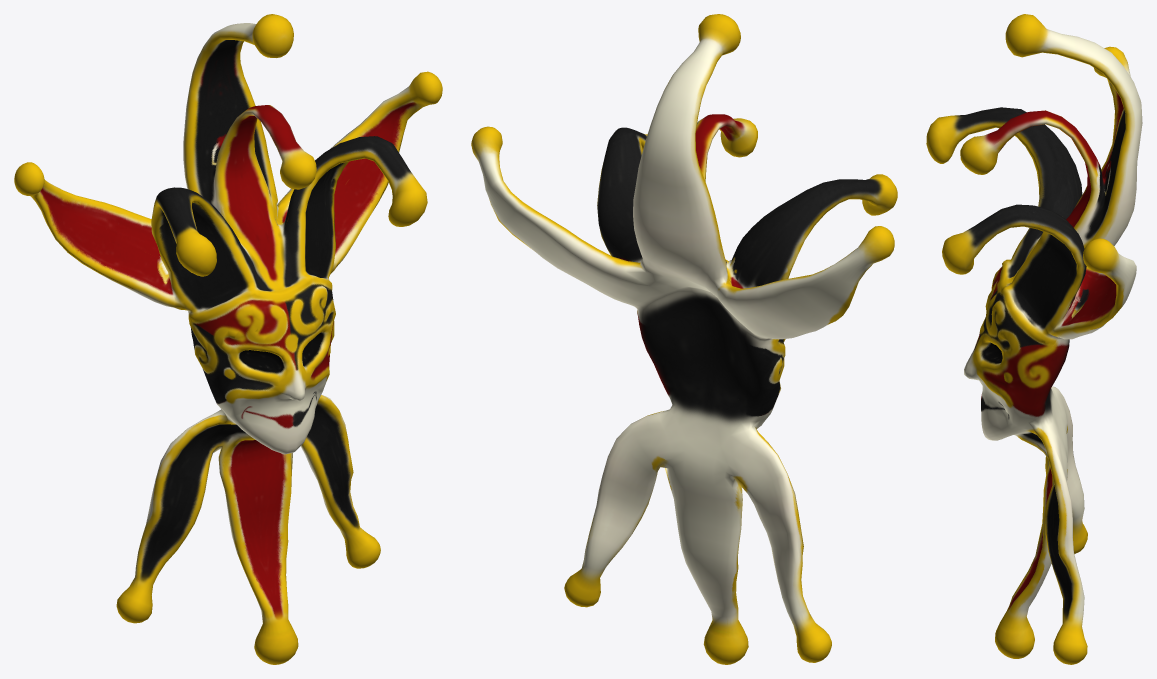
The model's file is Mask 2 Model.glb.
3 views of the same model, side by side, from view 1: azimuth 30°, elevation 25°; view 2: azimuth 150°, elevation 25°; view 3: azimuth 270°, elevation 25° (orthographic).
Parts seen in each view (by area): view 1: Group19243; view 2: Group19243; view 3: Group19243.
Boxes of the visible parts, left/top/right/bottom form: Group19243: left=14, top=14, right=442, bottom=664; Group19243: left=471, top=14, right=897, bottom=664; Group19243: left=926, top=14, right=1142, bottom=664.
Bounding box in the file's own units: 18.84 × 27.65 × 8.43.
Materials: 1 (1 with a texture image).
